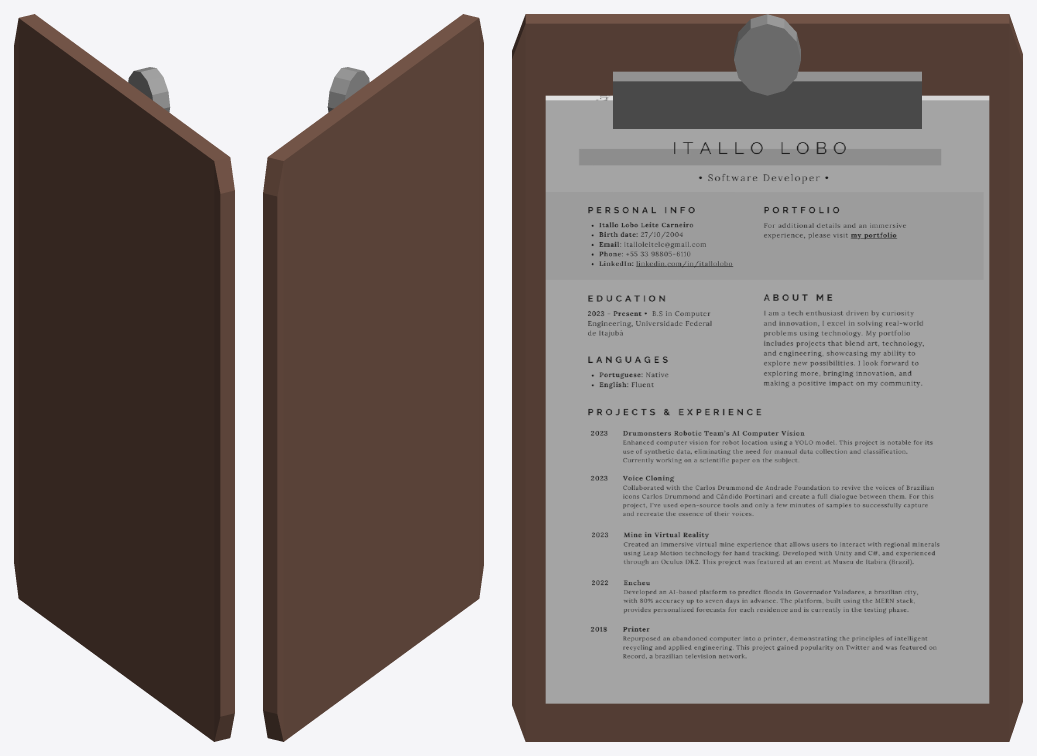
The model's file is clipboard.gltf.
The picture shows the model from 3 angles, left to right: view 1: azimuth 30°, elevation 25°; view 2: azimuth 150°, elevation 25°; view 3: azimuth 270°, elevation 25°; orthographic projection. The views are drawn at different scales.
Visible parts, largest first — view 1: Node; view 2: Node; view 3: Node.
Boxes of the visible parts, box(x1,y1,x2,y2) form: Node: box(14, 14, 234, 741); Node: box(263, 14, 483, 741); Node: box(512, 14, 1022, 741).
Bounding box in the file's own units: 0.05 × 0.7038 × 0.4446.
Materials: 3 (1 with a texture image).
